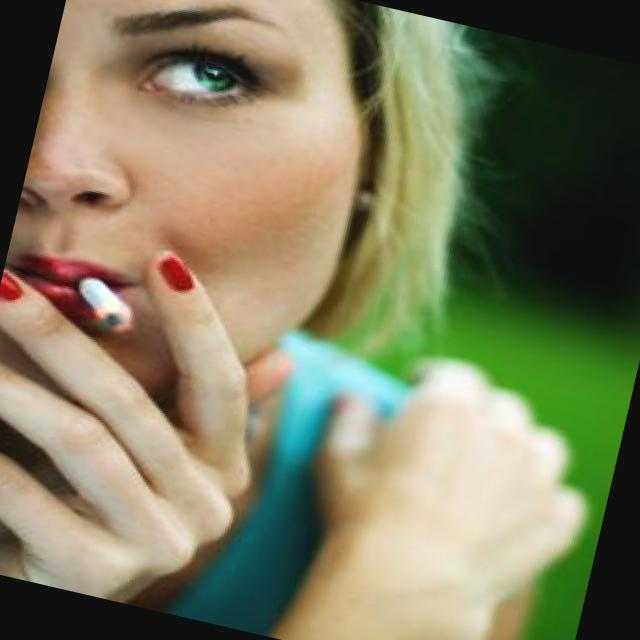smoke: (51, 256, 172, 362)
